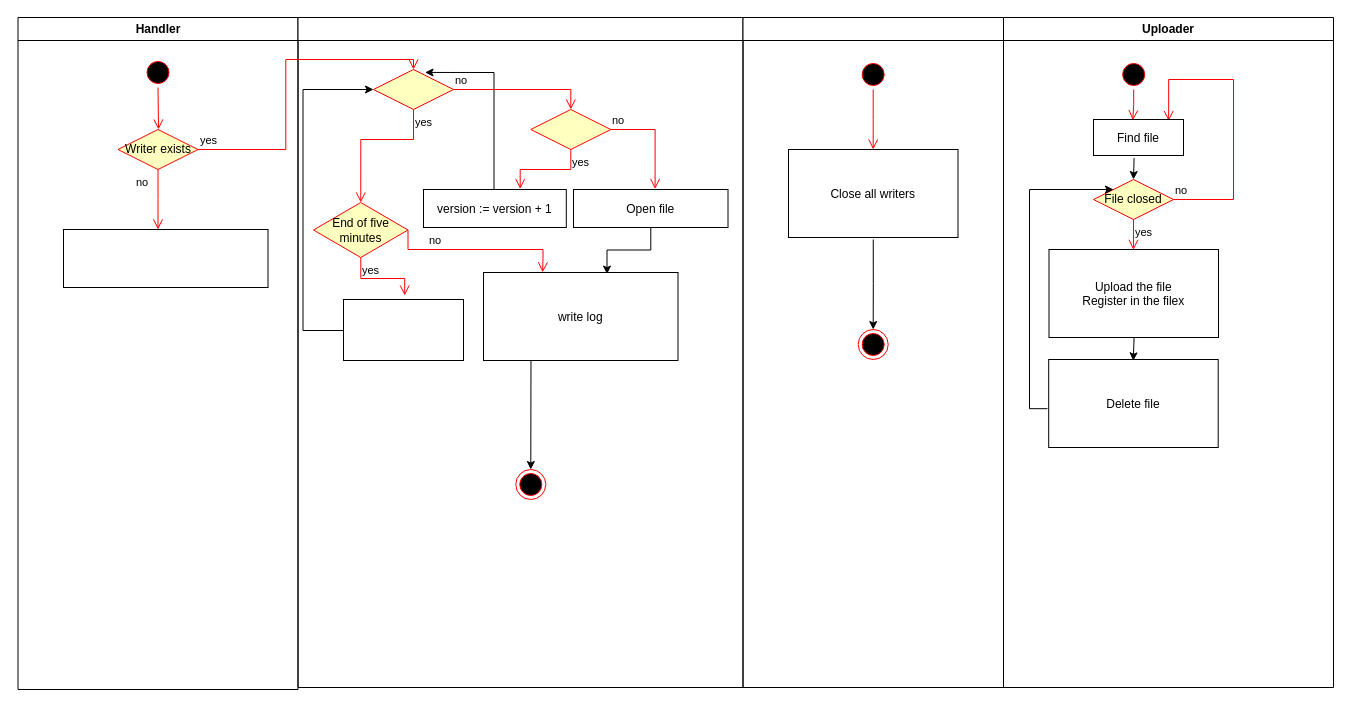
This 1351x707 diagram has some shape labels left out. The shapes that lost their labels are listed below. From the top down, each one's box as (x1, y1, x2, y2) in pixels, then its label:
(372, 68, 454, 110): File open
(530, 108, 611, 150): File exists
(62, 228, 268, 288): Create Writer version := 1
(342, 298, 464, 360): Close file
(297, 16, 743, 688): Writer
(742, 16, 1004, 688): Every five minutes
